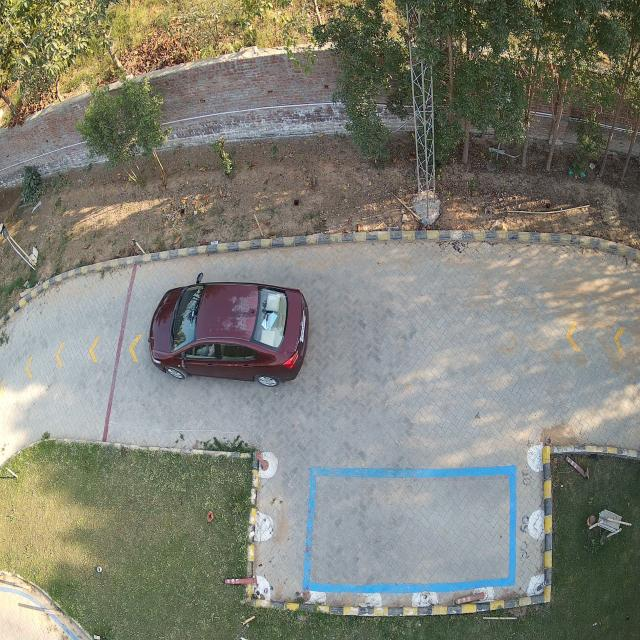car: (149, 273, 309, 387)
